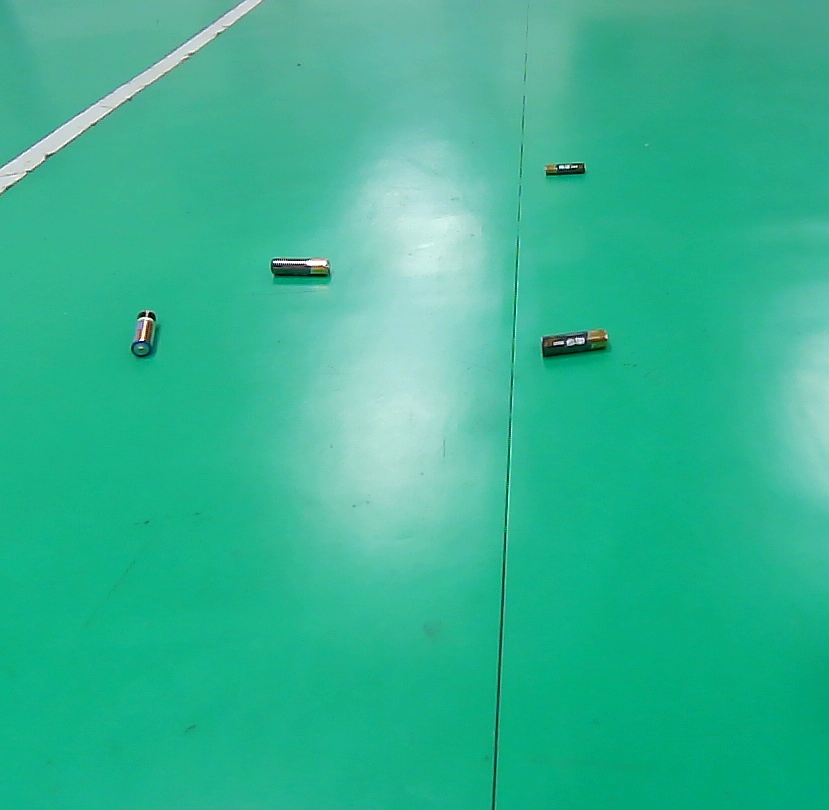battery: (111, 286, 176, 382), (522, 314, 624, 373), (253, 241, 346, 299), (526, 146, 600, 193)
